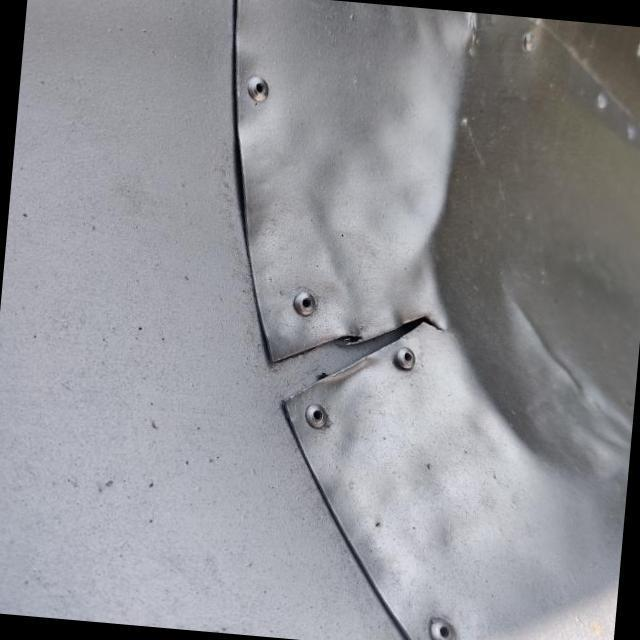dent: (428, 19, 638, 465)
